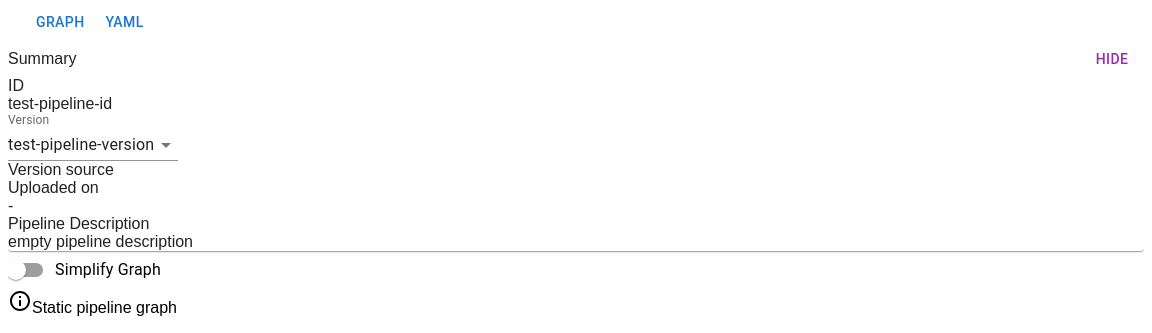
PipelineDetailsV1 › shows correct versions in version selector
Step 1. Press the mouse on the dropdown → [81, 144], box [8,135,154,154]
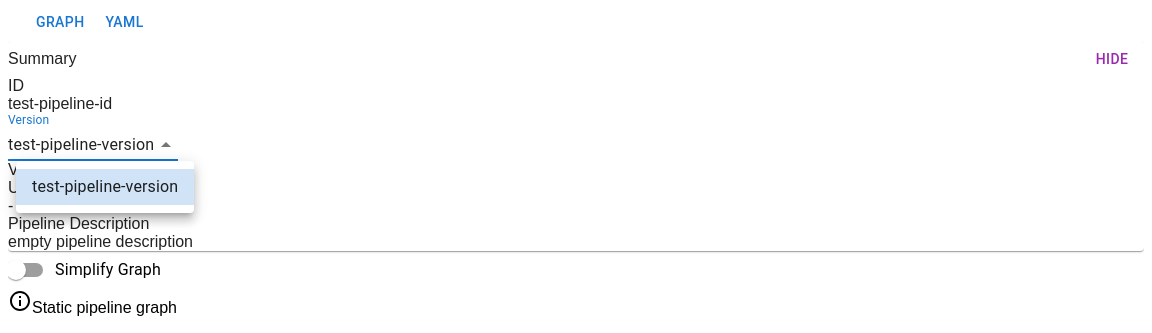
Now the number of options is 1, box [16,169,194,205]
Now the option reads "test-pipeline-version", box [16,169,194,205]
